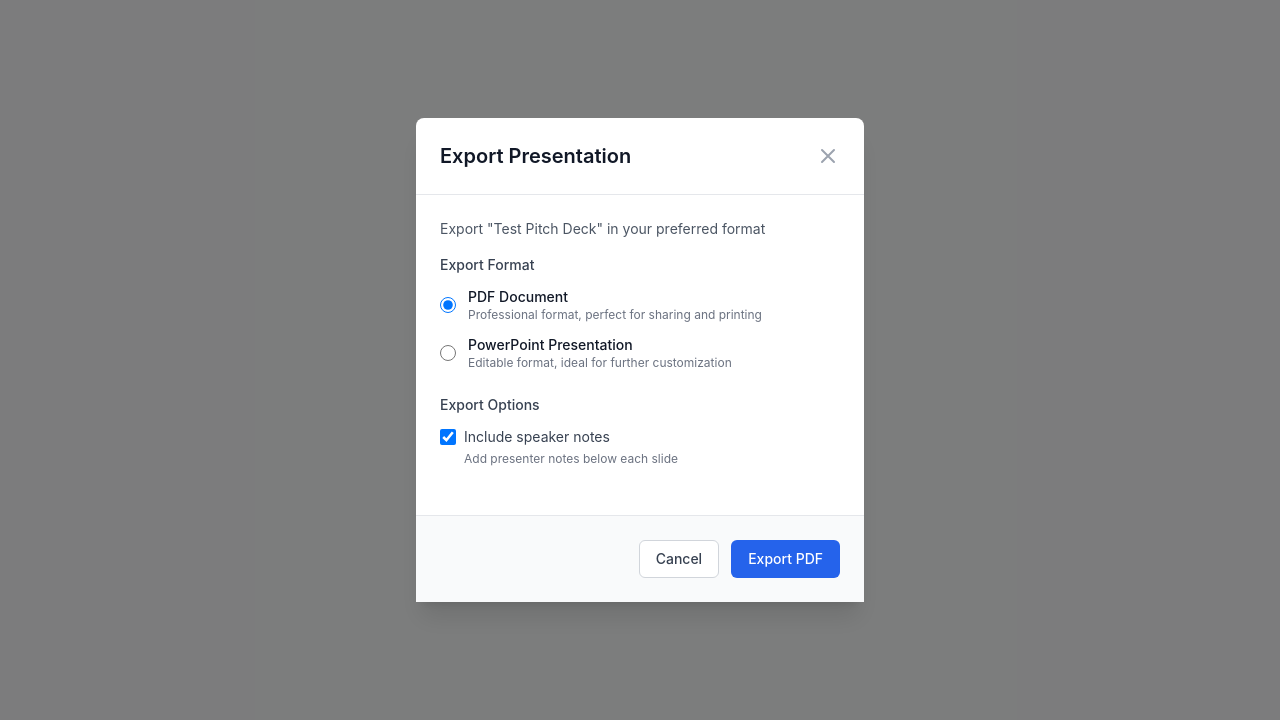
Test: ExportModal › hides speaker notes option for PPTX format
Note: Switch to PPTX format
Click the radio button showing "pptx" at (448,353), box [440, 345, 456, 361]
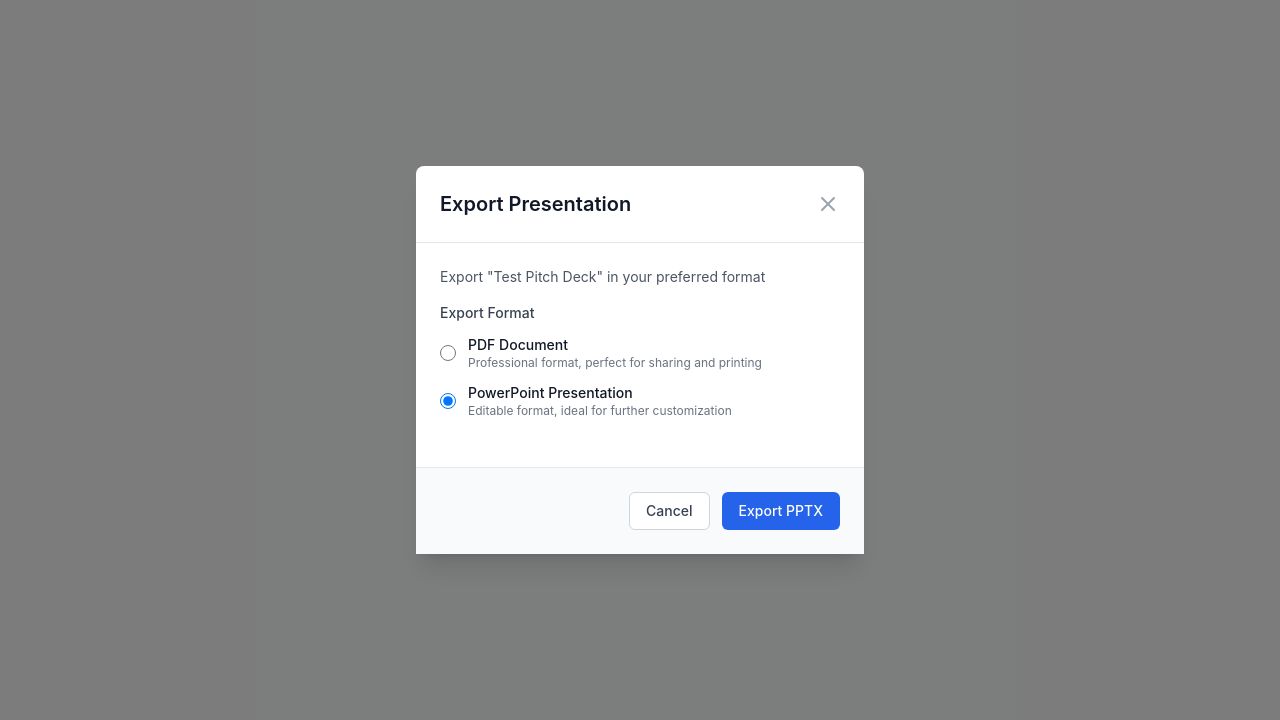
Now the text "Include speaker notes" is gone
